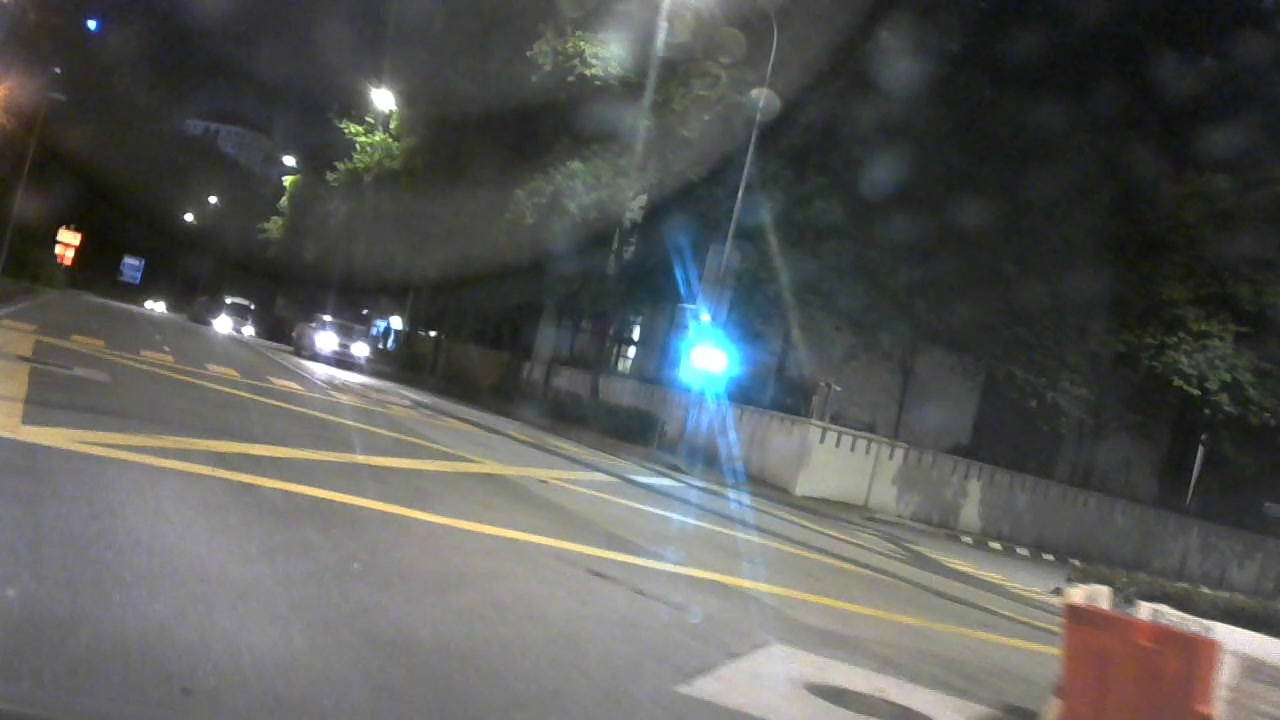Car: (287, 311, 374, 372), (199, 297, 260, 337), (141, 297, 177, 316)
